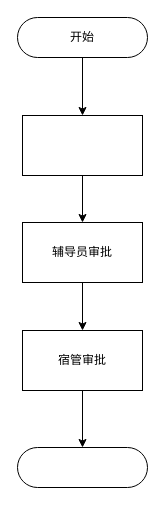
Image size: 165x505. Some labels were removed from this diagram. The centre of each missing label's shape, as x and y in pixels:
学生申请，填写目标床位、理由: point 82,145
结束: point 82,467
